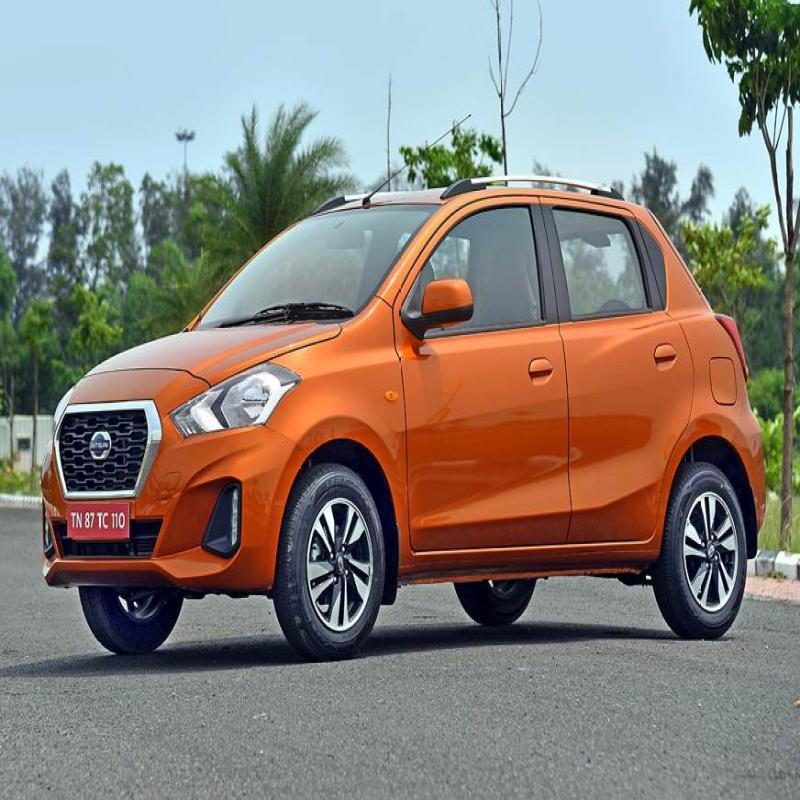car: (32, 178, 773, 672)
